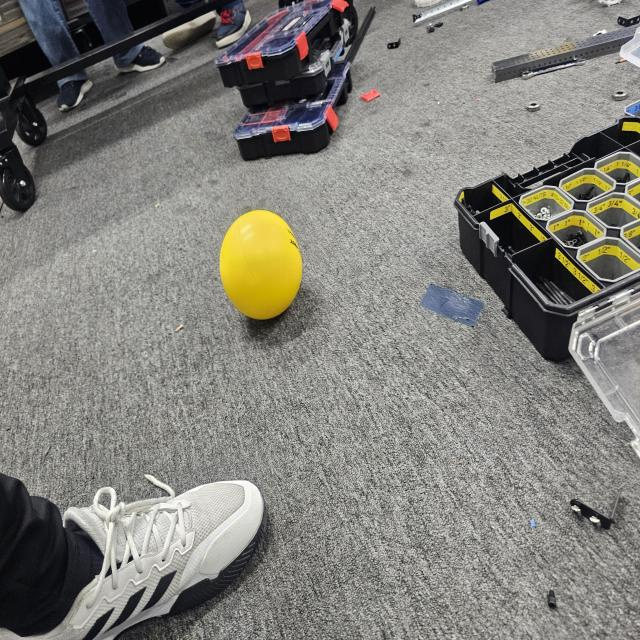Fuel: (213, 206, 310, 330)
